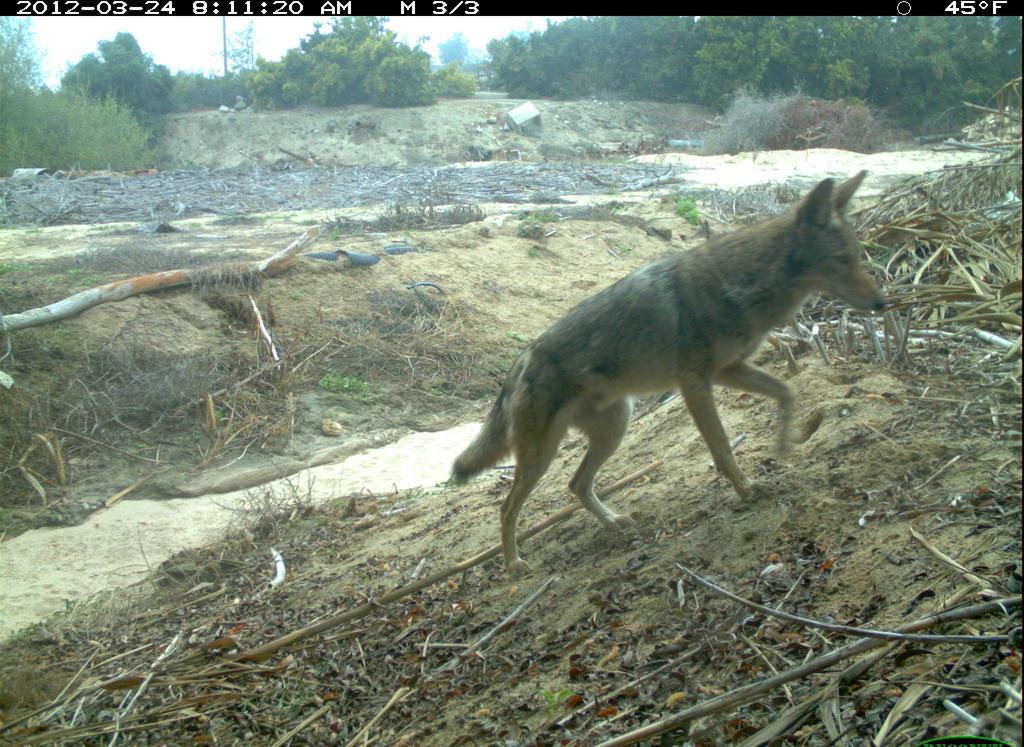coyote: (438, 173, 923, 575)
